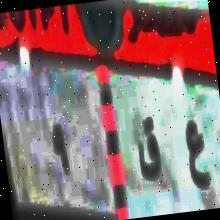9: (48, 118, 74, 188)
ain: (181, 115, 213, 201)
qaaf: (132, 112, 165, 190)
